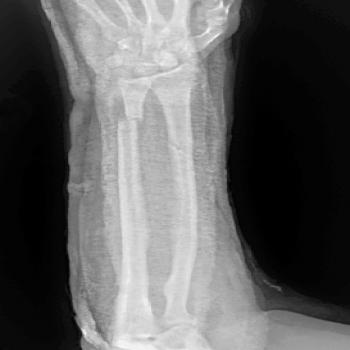Fracture: (158, 132, 207, 163), (104, 108, 156, 132)
